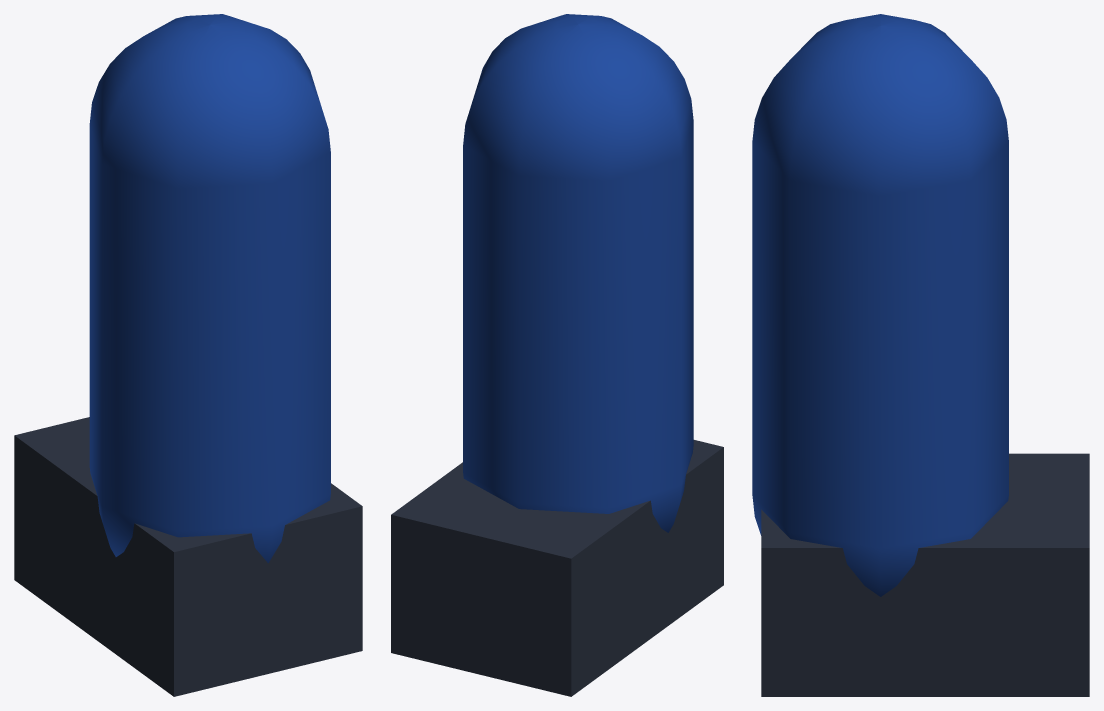
The model's file is original_blue_leg.glb.
3 views of the same model, side by side, from view 1: azimuth 30°, elevation 25°; view 2: azimuth 150°, elevation 25°; view 3: azimuth 270°, elevation 25° (orthographic). The views are drawn at different scales.
Visible parts, largest first — view 1: original_blue_leg; view 2: original_blue_leg; view 3: original_blue_leg.
Part boxes in pixels (<box>): original_blue_leg: <box>14,14,362,696</box>; original_blue_leg: <box>391,14,723,696</box>; original_blue_leg: <box>752,14,1089,696</box>.
Size of the model in its own units: 0.172 by 0.461 by 0.226.
1 material, 1 textured.
